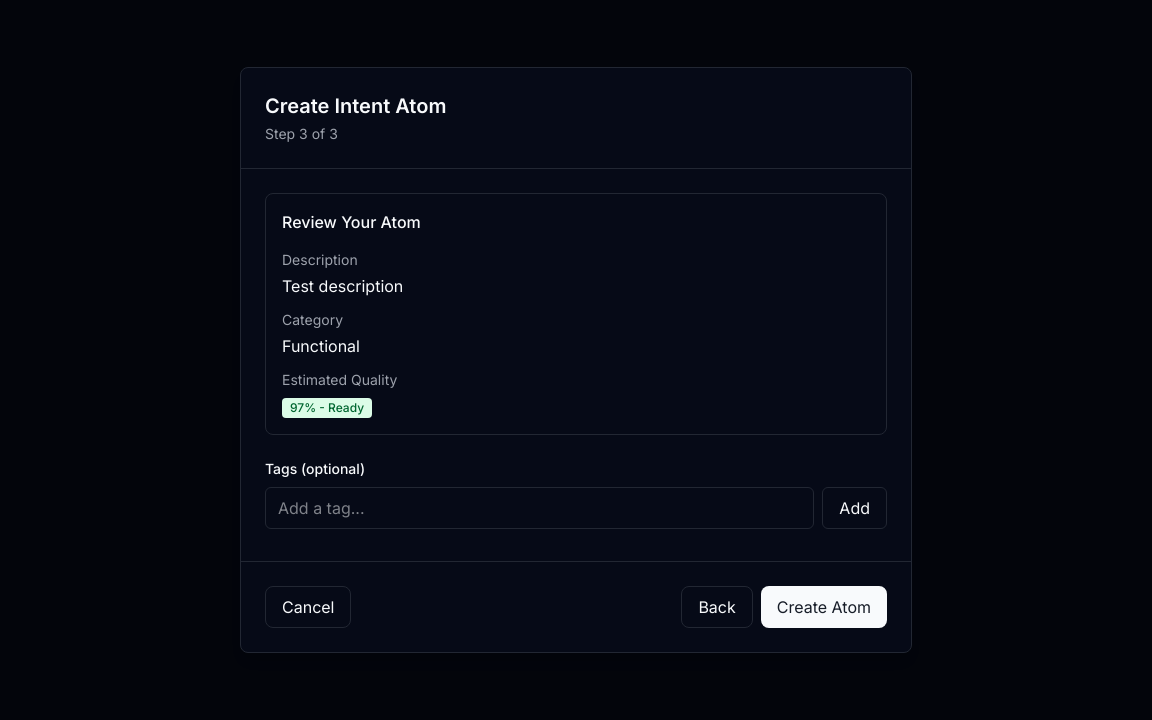
Test: CreateAtomDialog › Tags › allows adding tags on step 2
Type "test-tag" into the field with placeholder "Add a tag...".
click(540, 508); type("test-tag")  # box [265,487,814,529]
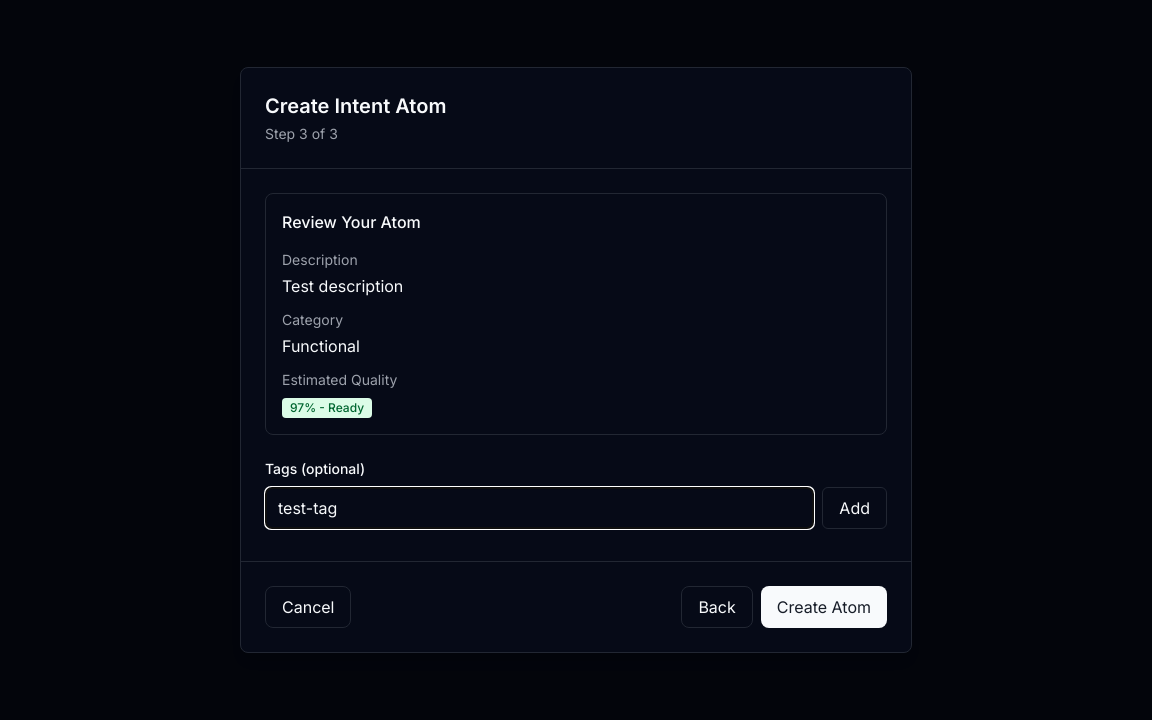
Click the button "Add".
click(855, 508)  # box [822,487,887,529]
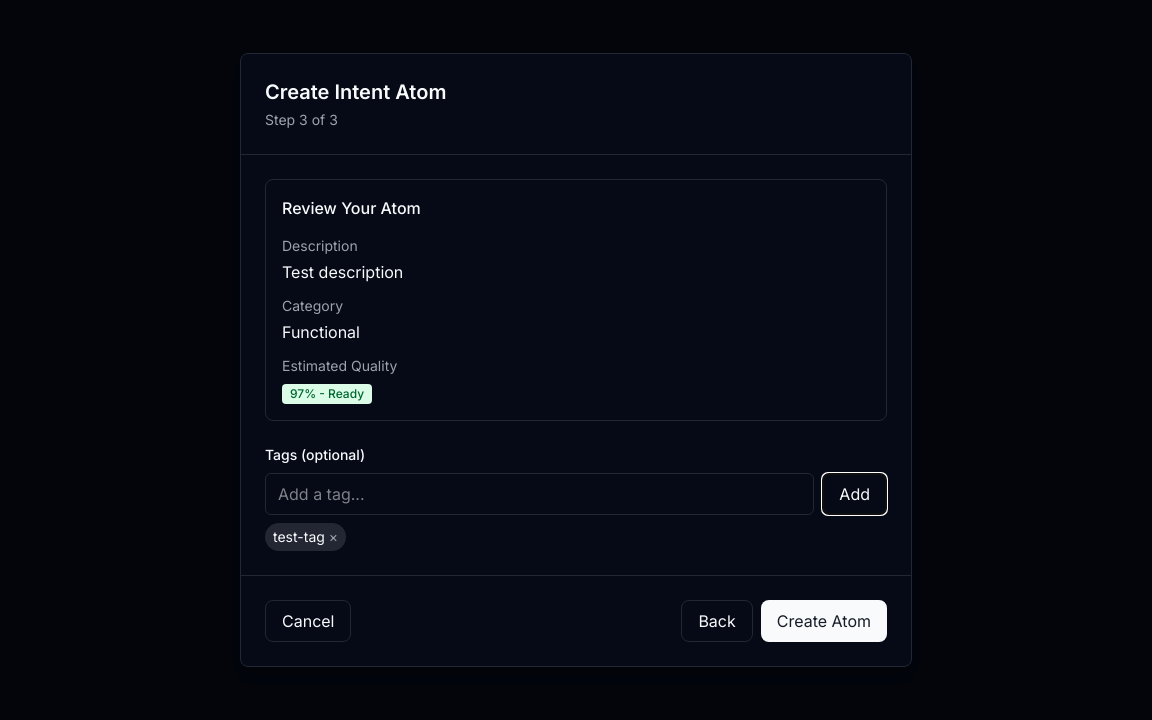
Now the text "test-tag" is shown, box [273,528,325,545]
